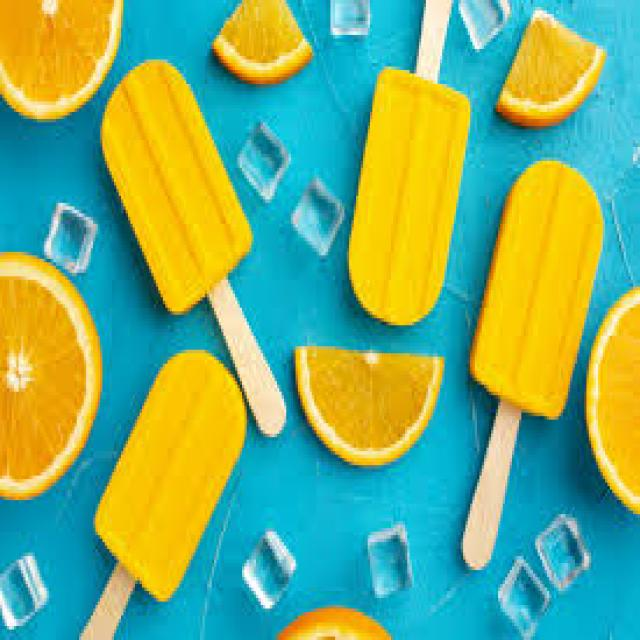orange: (291, 339, 444, 491)
